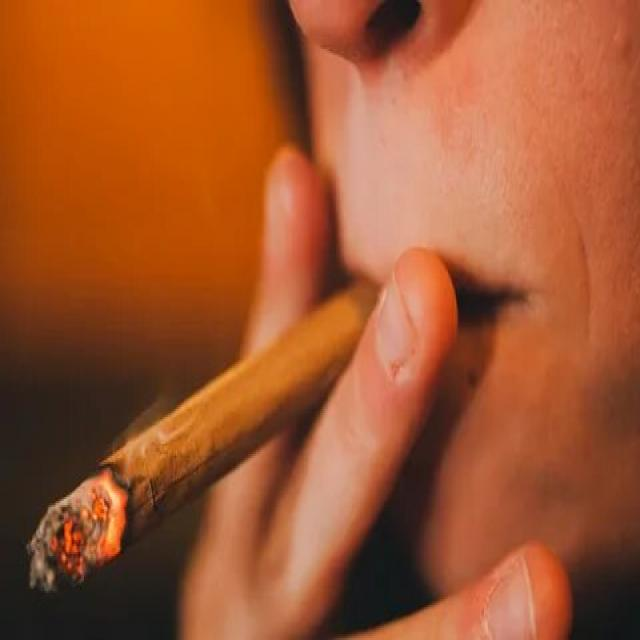smoke: (19, 268, 389, 605)
